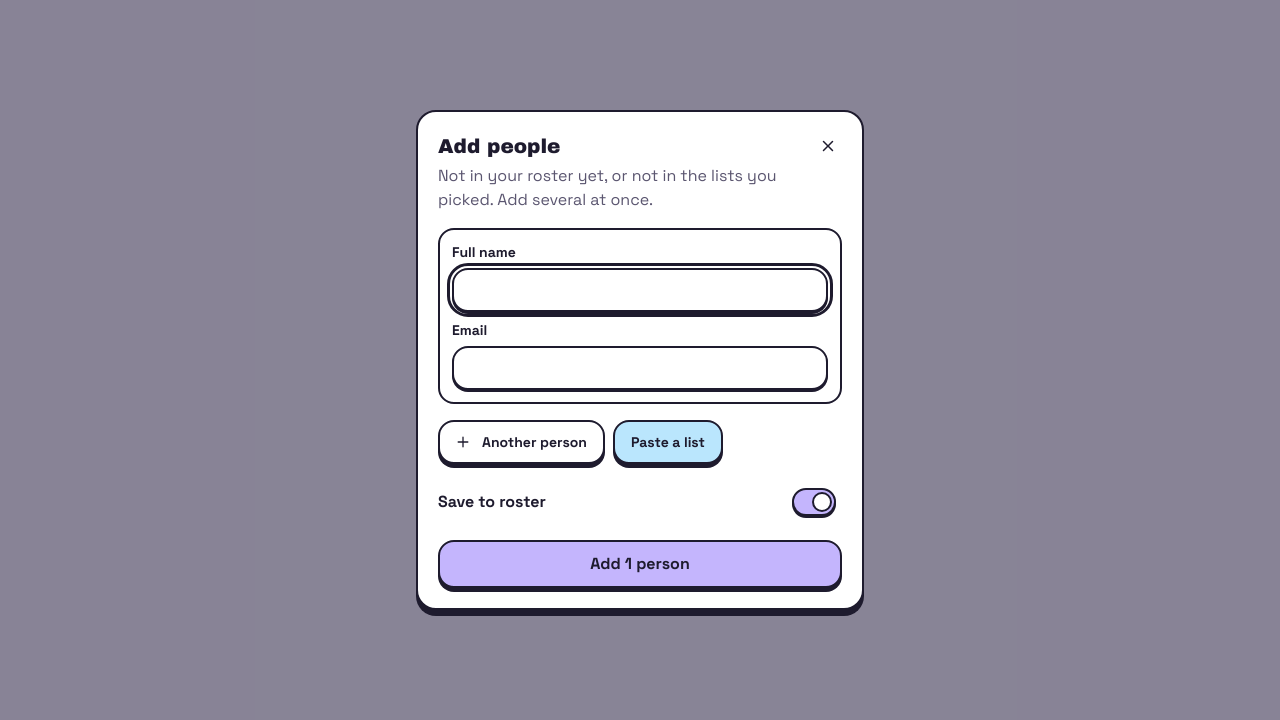
it: AddPeopleSheet › blocks rows with a missing name or a bad email
Type "nope" into the field labelled "Email" at coordinates (640, 368), box [452,346,828,390]
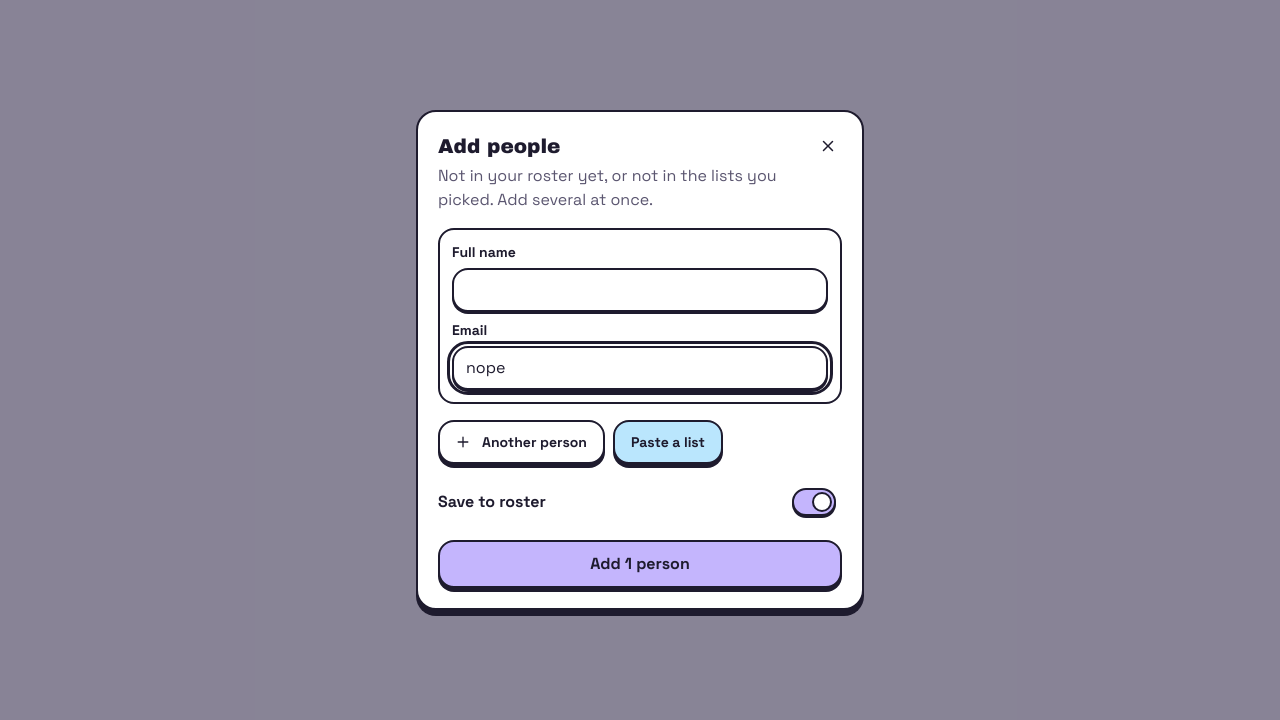
Click the button "Add 1 person" at coordinates (640, 564), box [438,540,842,588]
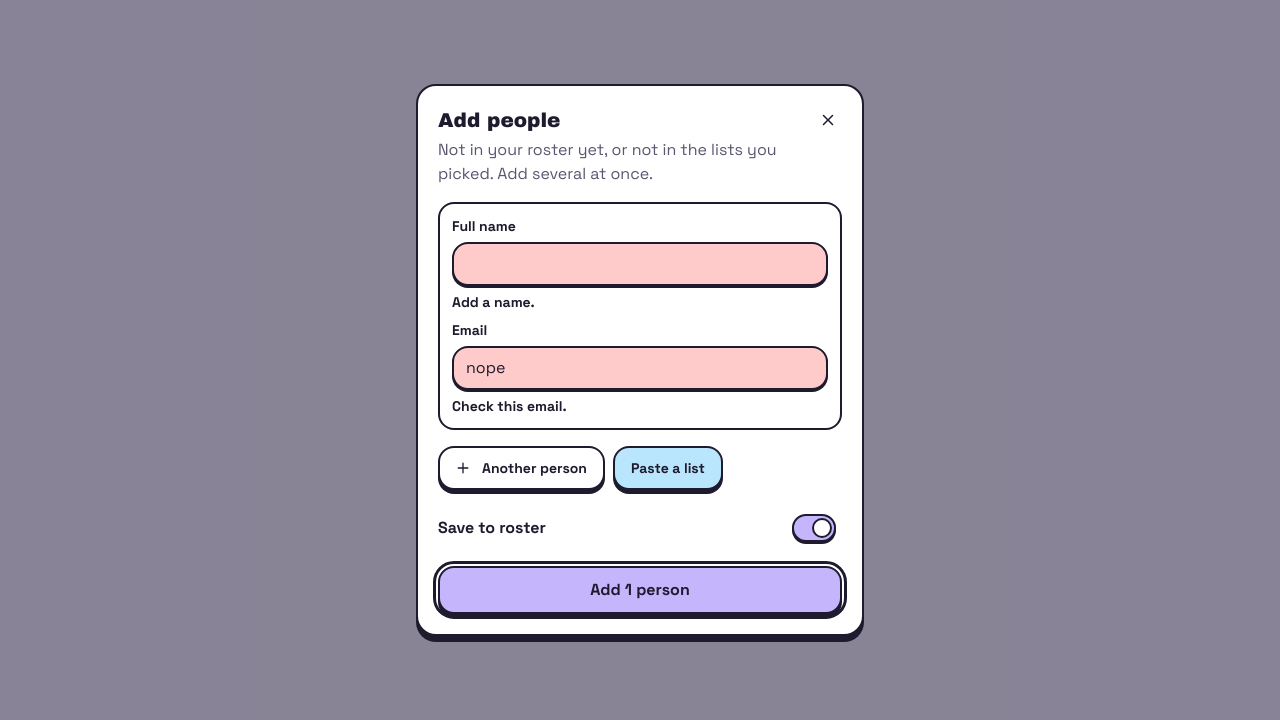
Check: the text "Add a name." is shown, box [452,293,535,311]
Check: the text "Check this email." is shown, box [452,397,567,415]
